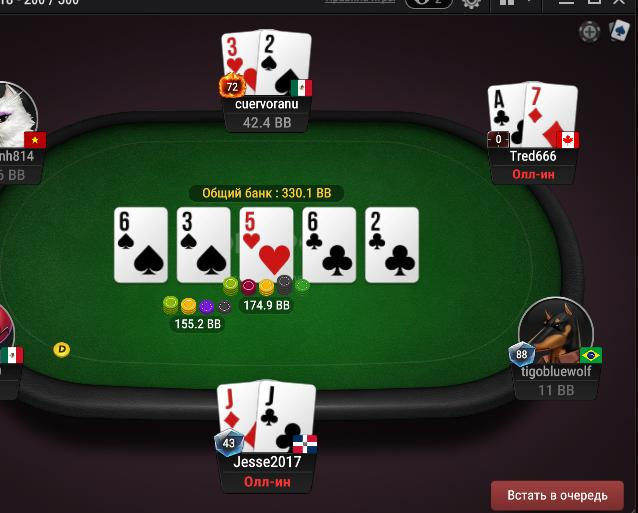2c: (364, 209, 419, 282)
2s: (259, 30, 313, 98)
3h: (220, 30, 260, 96)
3s: (177, 207, 230, 280)
5h: (240, 207, 293, 281)
6c: (304, 206, 356, 282)
6s: (114, 206, 168, 283)
7d: (526, 79, 579, 147)
Ac: (487, 81, 526, 148)
Jc: (258, 378, 315, 459)
Jd: (216, 382, 258, 453)
